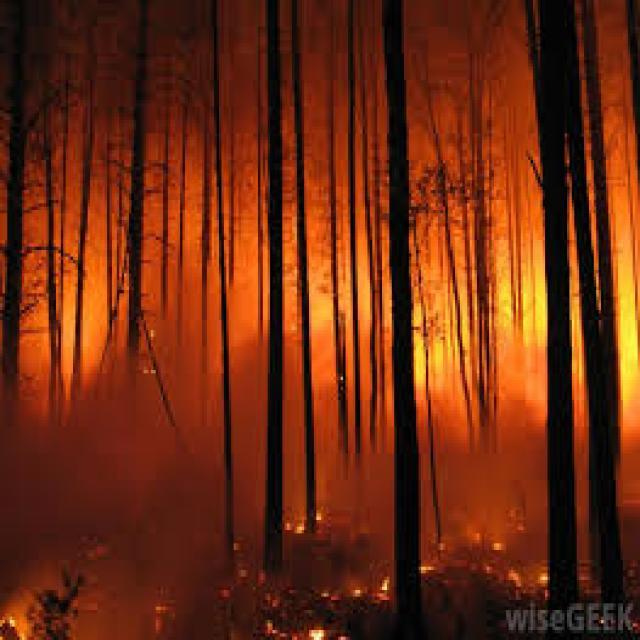Fire: (613, 224, 640, 471), (493, 227, 541, 340), (412, 285, 426, 378)
Smoke: (8, 344, 230, 600), (232, 328, 402, 572), (412, 399, 557, 579)
